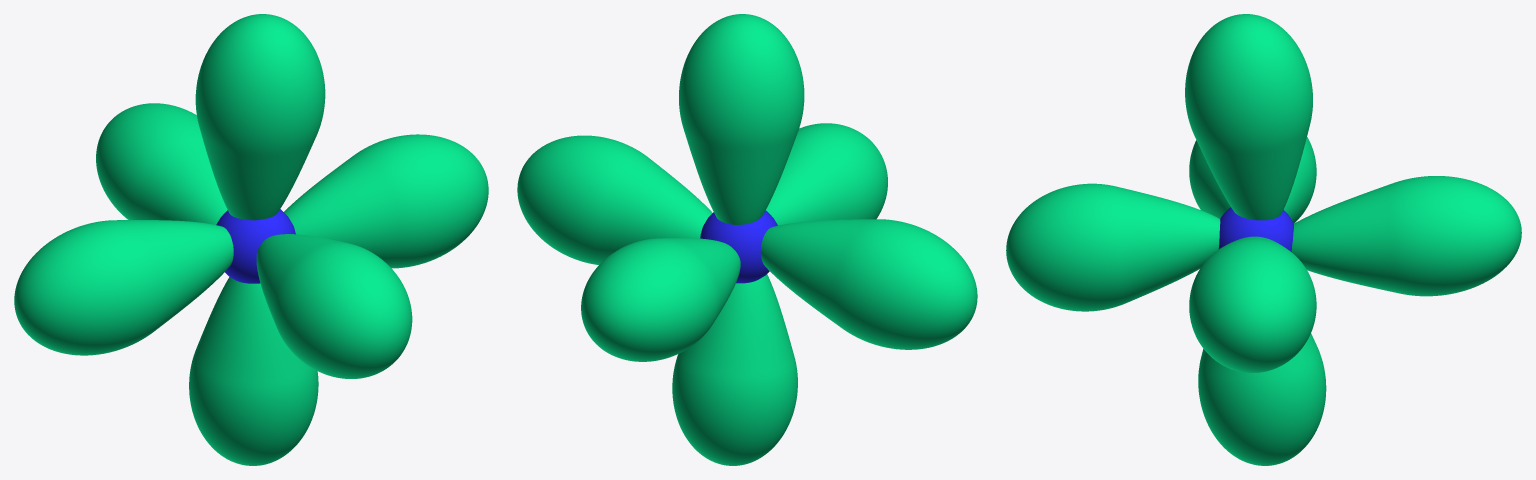
The model's file is Altp3.glb.
3 renders of one model, left to right at view 1: azimuth 30°, elevation 25°; view 2: azimuth 150°, elevation 25°; view 3: azimuth 270°, elevation 25°, orthographic. The views are drawn at different scales.
Visible parts, largest first — view 1: Sphere.004, Sphere.006, Sphere.003, Sphere.002, Sphere.005, Sphere.001, Sphere; view 2: Sphere.004, Sphere.006, Sphere.005, Sphere.003, Sphere.001, Sphere.002, Sphere; view 3: Sphere.001, Sphere.002, Sphere.006, Sphere.003, Sphere.005, Sphere.004, Sphere.
Boxes of the visible parts, x1=… form: Sphere.004: x1=14, y1=220, x2=233, y2=355; Sphere.006: x1=195, y1=14, x2=325, y2=220; Sphere.003: x1=284, y1=134, x2=488, y2=268; Sphere.002: x1=256, y1=234, x2=412, y2=378; Sphere.005: x1=189, y1=277, x2=318, y2=465; Sphere.001: x1=96, y1=103, x2=227, y2=224; Sphere: x1=216, y1=209, x2=295, y2=283; Sphere.004: x1=760, y1=219, x2=977, y2=349; Sphere.006: x1=679, y1=14, x2=804, y2=224; Sphere.005: x1=672, y1=274, x2=797, y2=465; Sphere.003: x1=517, y1=135, x2=712, y2=264; Sphere.001: x1=581, y1=238, x2=740, y2=361; Sphere.002: x1=766, y1=123, x2=887, y2=225; Sphere: x1=700, y1=210, x2=777, y2=283; Sphere.001: x1=1291, y1=176, x2=1521, y2=296; Sphere.002: x1=1006, y1=183, x2=1220, y2=311; Sphere.006: x1=1185, y1=14, x2=1312, y2=220; Sphere.003: x1=1189, y1=236, x2=1316, y2=372; Sphere.005: x1=1198, y1=333, x2=1326, y2=465; Sphere.004: x1=1189, y1=137, x2=1316, y2=223; Sphere: x1=1218, y1=207, x2=1293, y2=251.
Size of the model in its own units: 8.24 by 7.67 by 8.1.
7 materials, 1 textured.
